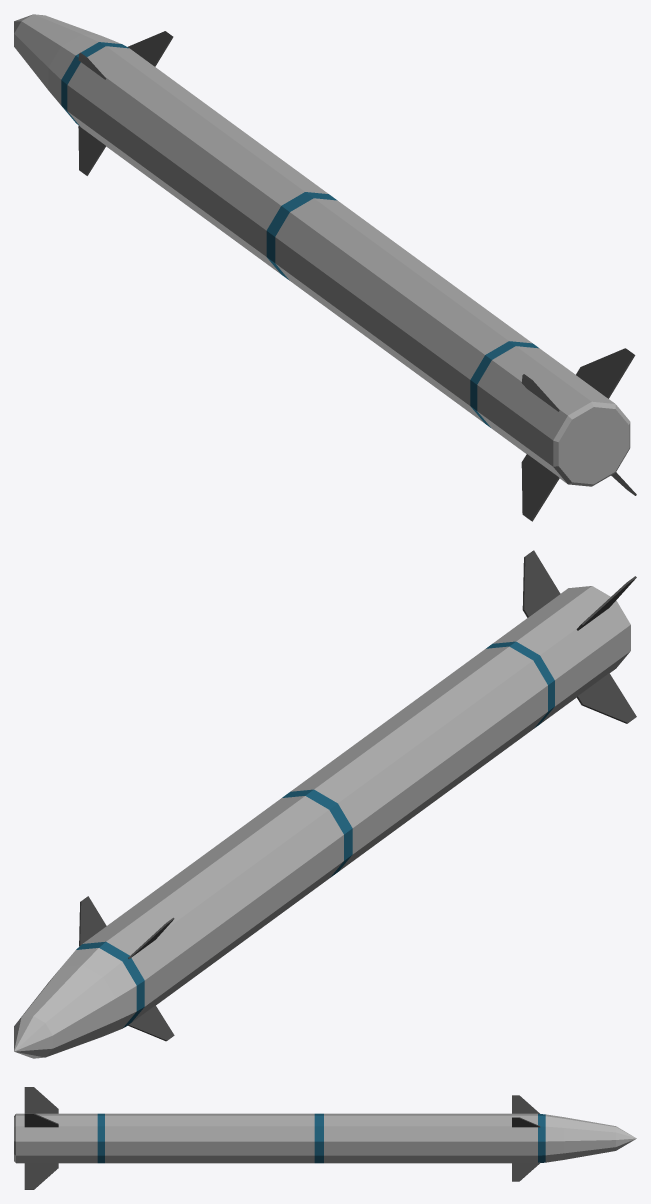
The model's file is model_weapon_missle01.fbx.
3 views of the same model, one above another, from view 1: azimuth 30°, elevation 25°; view 2: azimuth 150°, elevation 25°; view 3: azimuth 270°, elevation 25° (orthographic). The views are drawn at different scales.
Parts seen in each view (by area): view 1: model_weapon_missle01; view 2: model_weapon_missle01; view 3: model_weapon_missle01.
Part boxes in pixels (box(x1,y1,x2,y2)): model_weapon_missle01: box(14, 14, 636, 521); model_weapon_missle01: box(14, 550, 636, 1058); model_weapon_missle01: box(14, 1087, 636, 1189).
Size of the model in its own units: 29.02 by 37.34 by 275.
